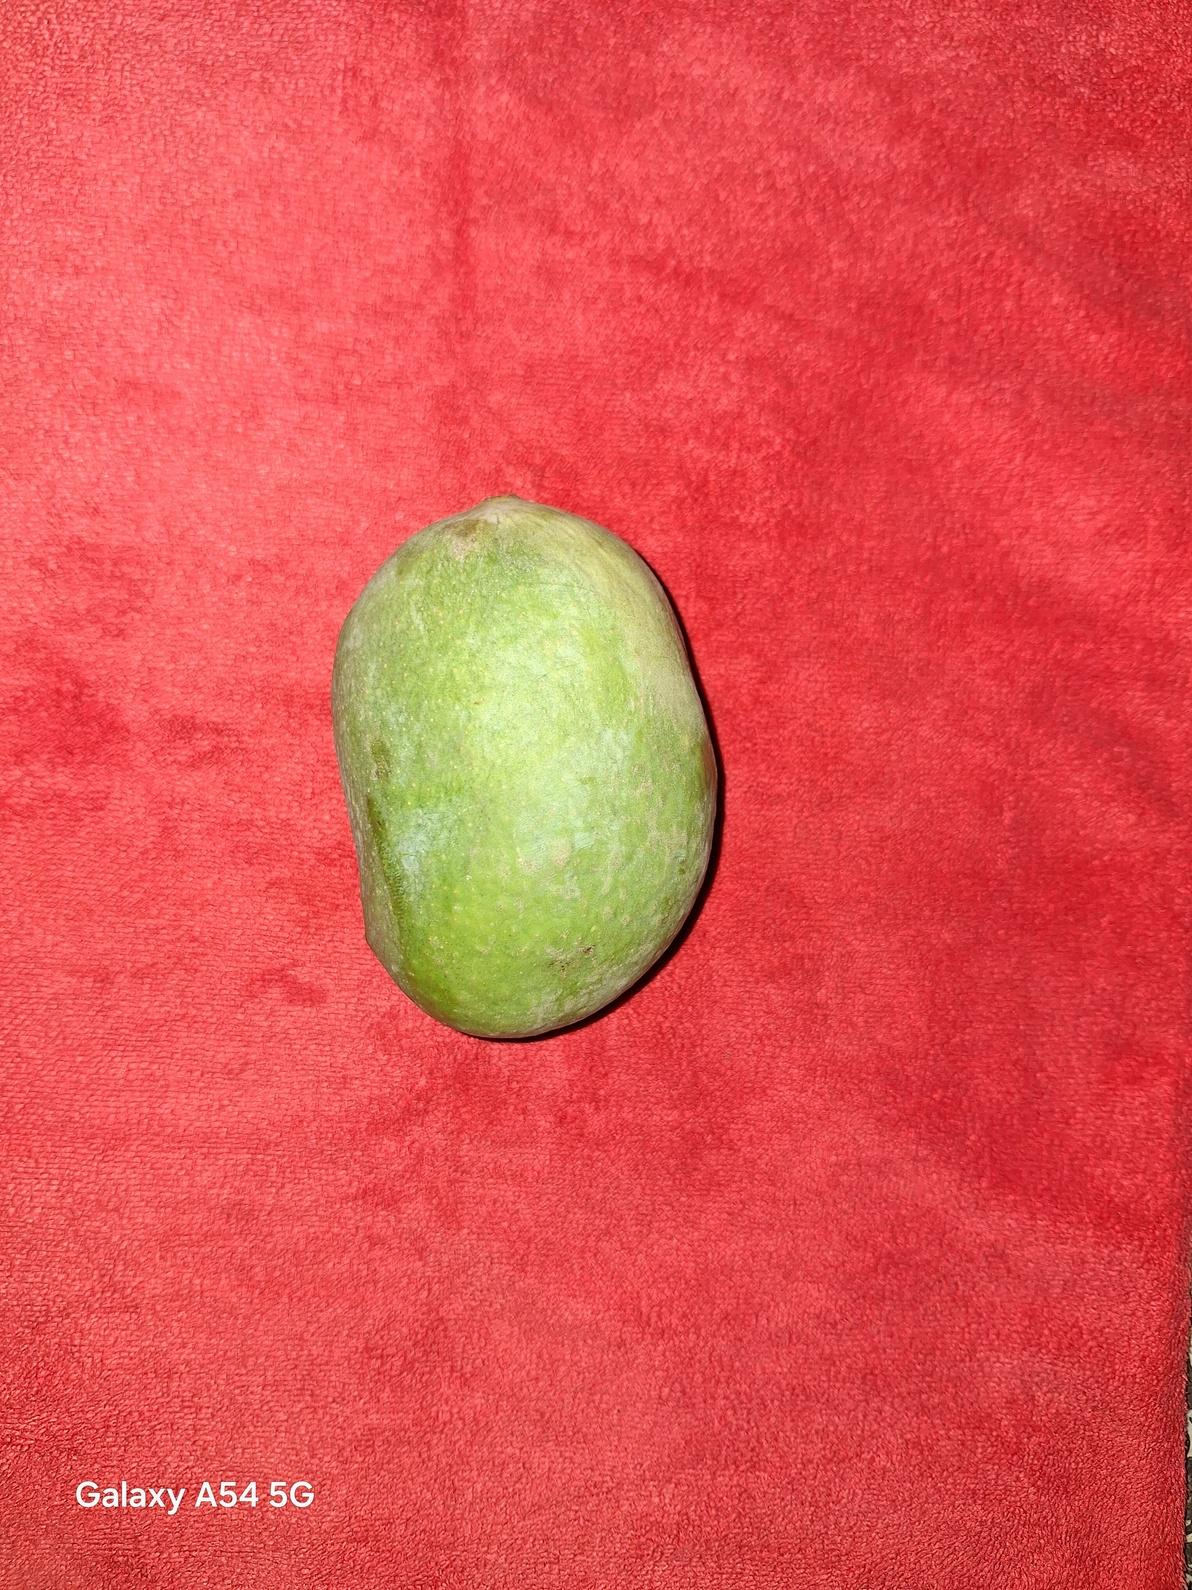mango: (329, 491, 719, 1040)
